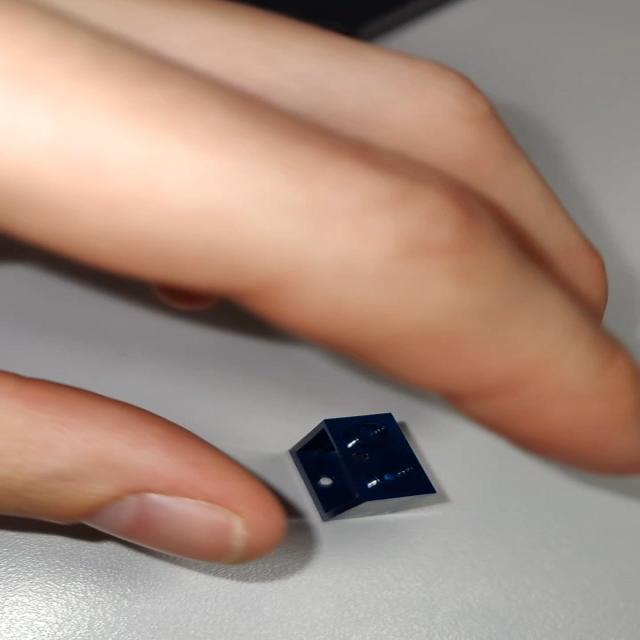W2x1x2: (276, 409, 450, 526)
